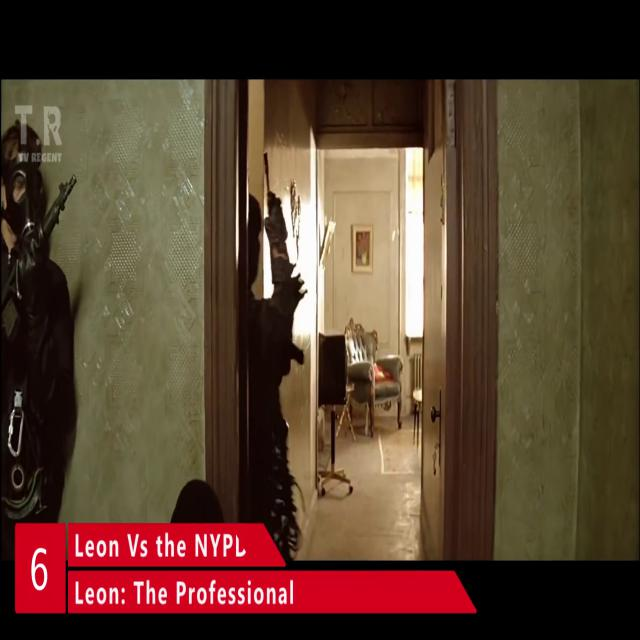long weapon: (254, 140, 316, 368)
